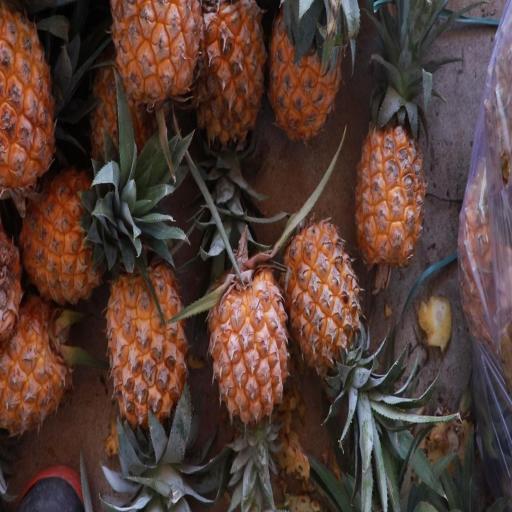Pineapple - v8 v1: (104, 246, 190, 458), (14, 160, 138, 307), (280, 213, 366, 407), (206, 249, 294, 433), (351, 83, 430, 273), (107, 0, 207, 128), (190, 0, 268, 163), (0, 0, 61, 206), (267, 4, 345, 153), (0, 285, 73, 437)
